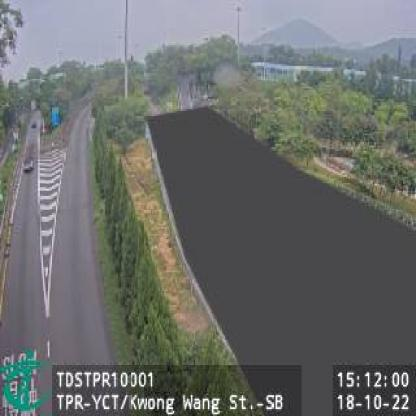Car: (23, 159, 34, 174)
